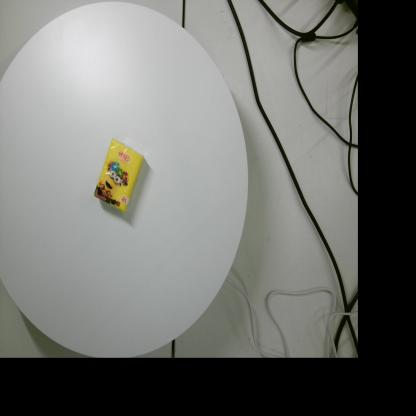Tissue: (94, 138, 144, 214)
